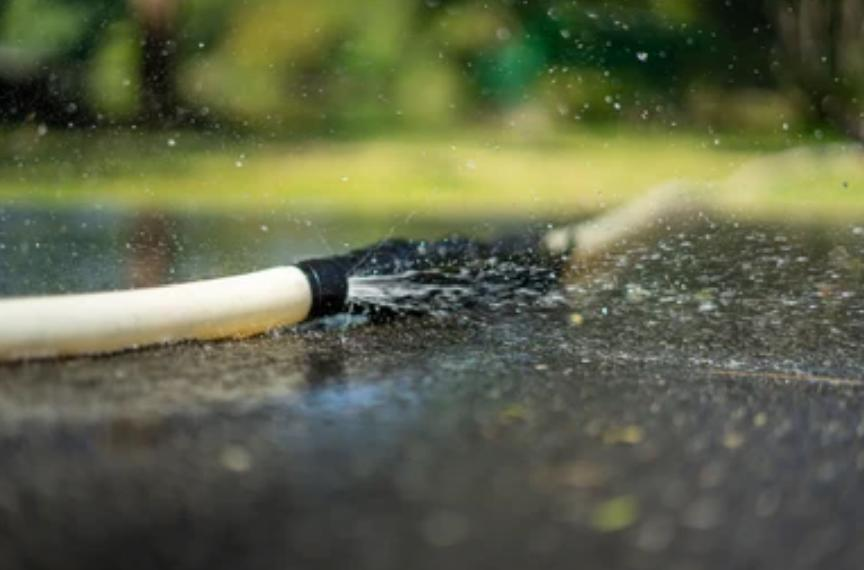pipe burst: (342, 260, 735, 315)
water accumulation: (0, 200, 864, 570)
